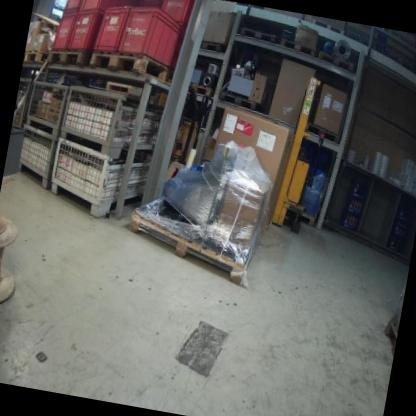pallet: (121, 207, 251, 284), (85, 43, 177, 88), (377, 311, 401, 357), (47, 45, 91, 70), (314, 49, 357, 74), (303, 119, 341, 146), (217, 88, 258, 112), (277, 35, 318, 58), (238, 25, 277, 44), (22, 45, 50, 68), (188, 81, 215, 99), (294, 212, 315, 227)
pallet_truck: (271, 74, 328, 235), (175, 86, 217, 181)
small_load_carrier: (114, 0, 187, 73), (63, 11, 113, 59), (92, 4, 130, 60), (157, 0, 201, 33), (77, 0, 137, 21), (52, 13, 79, 56), (61, 0, 90, 18), (133, 0, 163, 12)
stillage: (40, 135, 155, 227), (55, 80, 166, 162), (8, 125, 57, 191), (22, 76, 70, 135), (12, 71, 33, 131)
